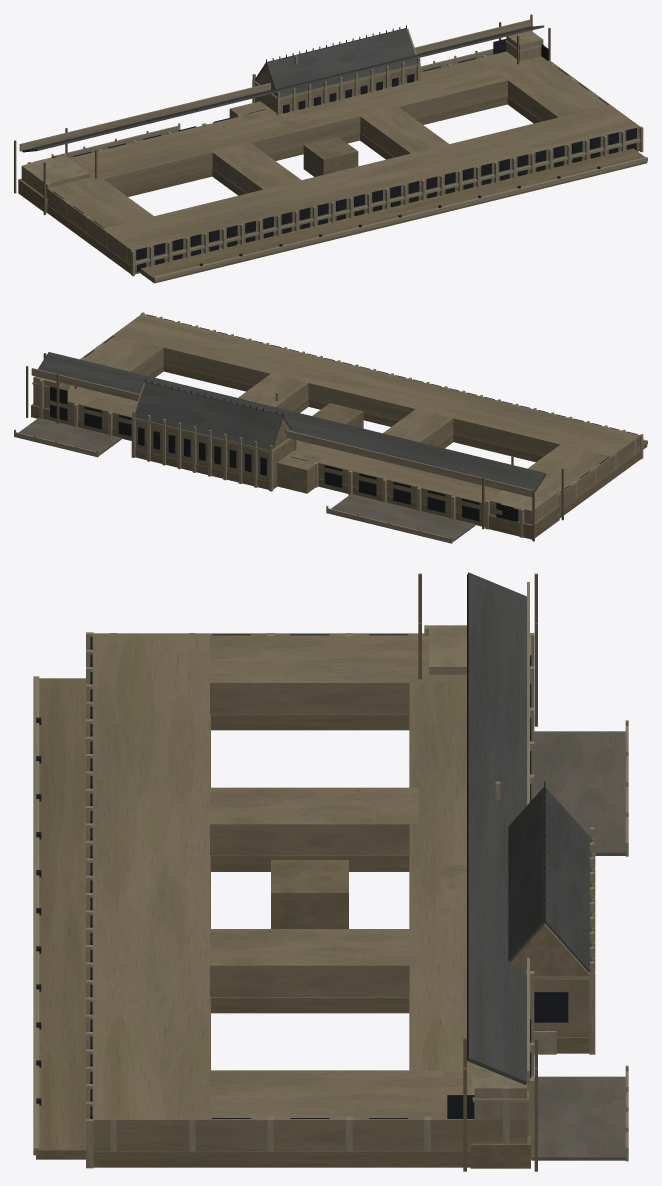
The model's file is westminster-site-b60.glb.
The picture shows the model from 3 angles, top to bottom: view 1: azimuth 30°, elevation 25°; view 2: azimuth 150°, elevation 25°; view 3: azimuth 270°, elevation 25°; orthographic projection. The views are drawn at different scales.
Bounding box in the file's own units: 39.07 × 5.64 × 19.83.
13 materials, 11 textured.
